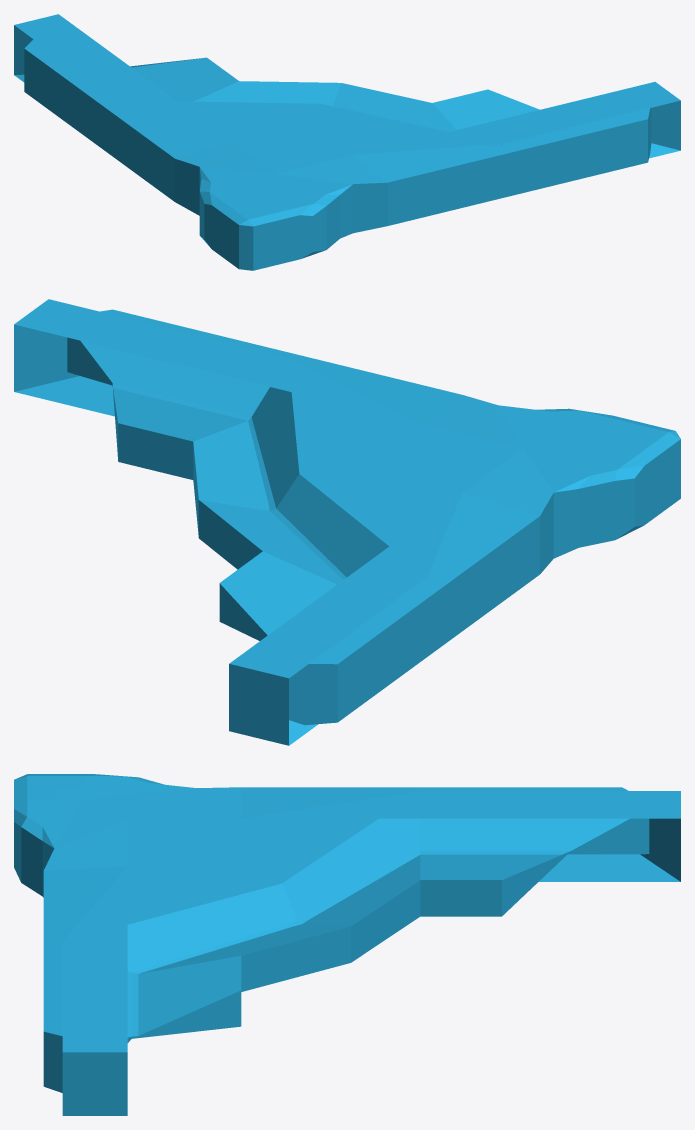
The model's file is Wings.fbx.
The picture shows the model from 3 angles, top to bottom: view 1: azimuth 30°, elevation 25°; view 2: azimuth 150°, elevation 25°; view 3: azimuth 270°, elevation 25°; orthographic projection. The views are drawn at different scales.
Visible parts, largest first — view 1: Cube; view 2: Cube; view 3: Cube.
Boxes of the visible parts, x1,y1,x2,y2 form: Cube: [14, 14, 680, 270]; Cube: [14, 299, 680, 745]; Cube: [14, 774, 680, 1115].
Bounding box in the file's own units: 586 × 61.6 × 586.
